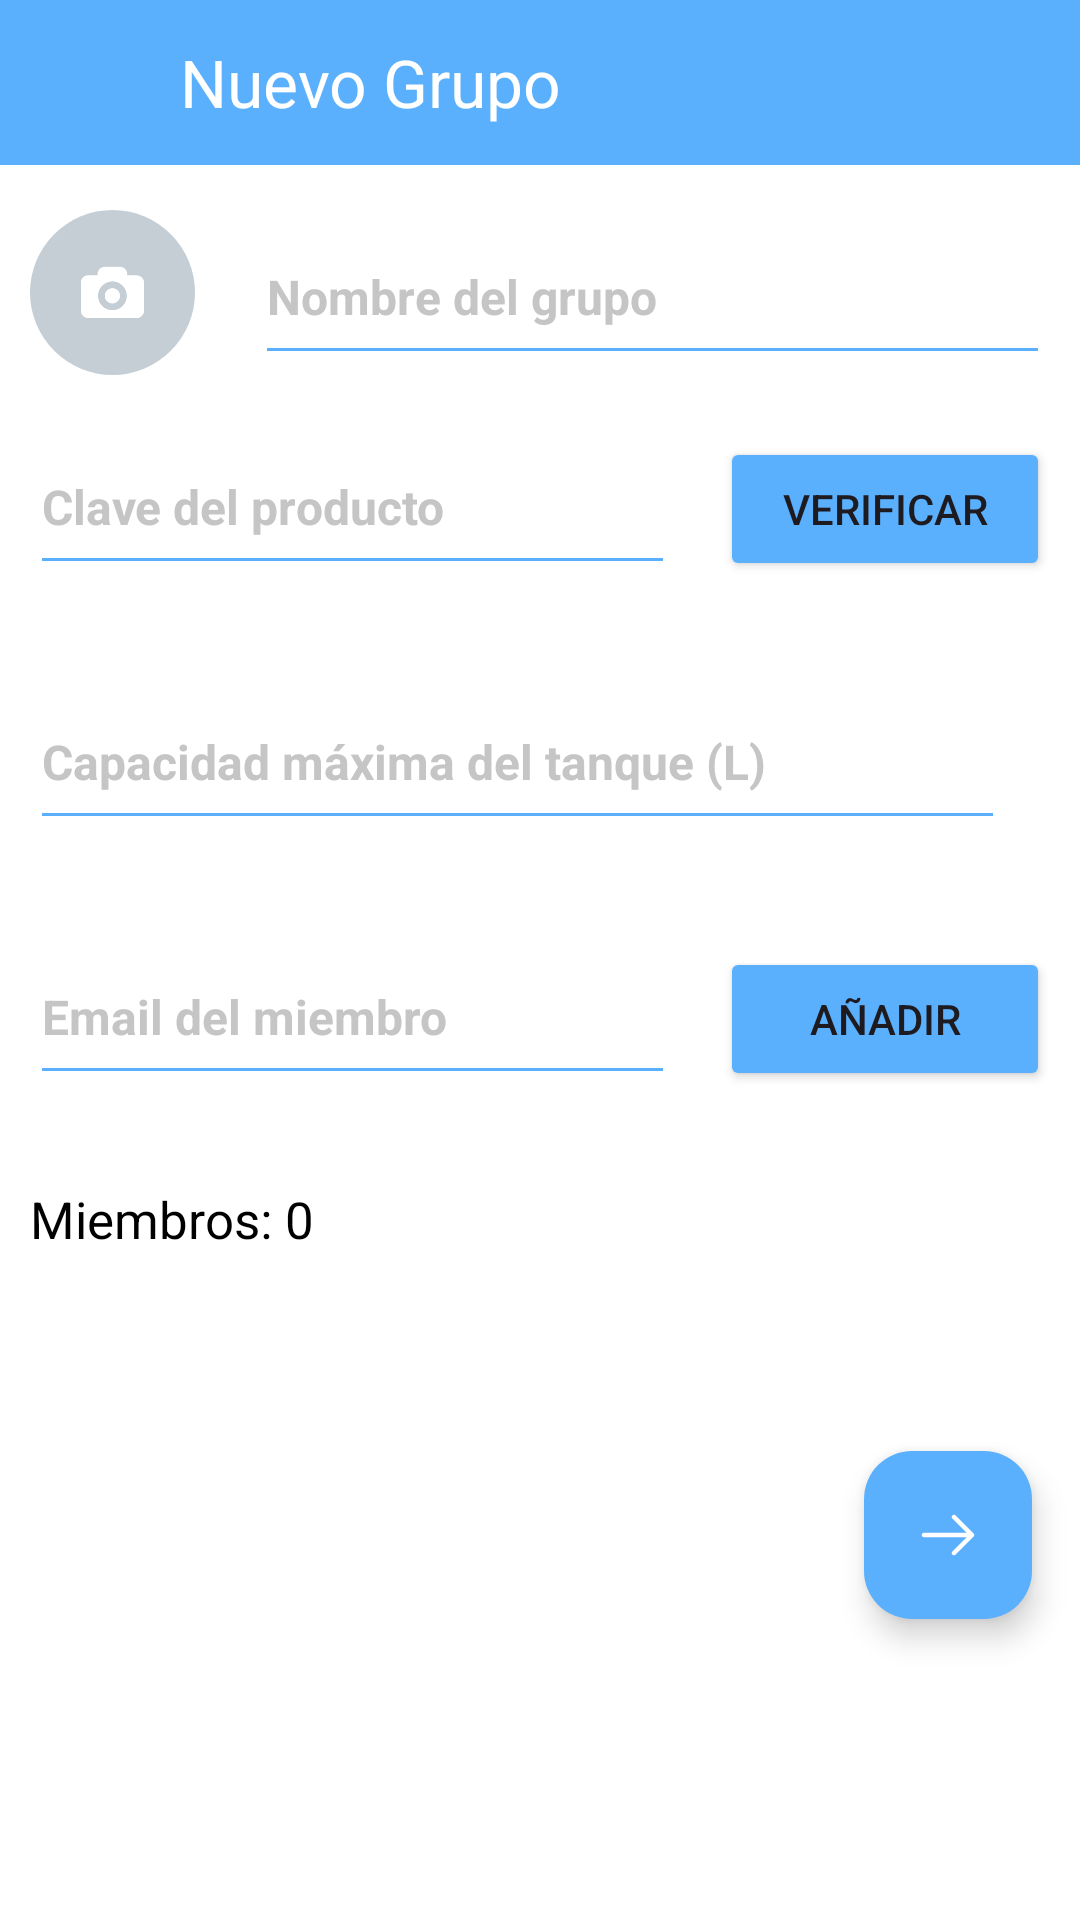

Icon bounding boxes for this 1080 x 1920 phone screenshot, format (x1, y1, x2, y2):
arrow right: (864, 1451, 1032, 1619)
subir foto: (30, 210, 195, 375)
